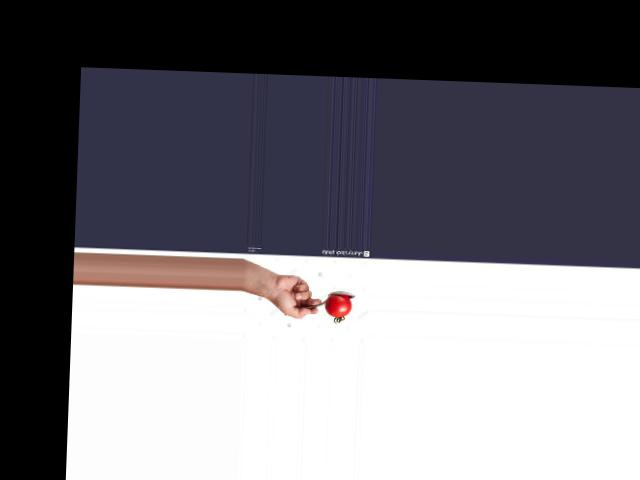tomato: (324, 294, 351, 317)
